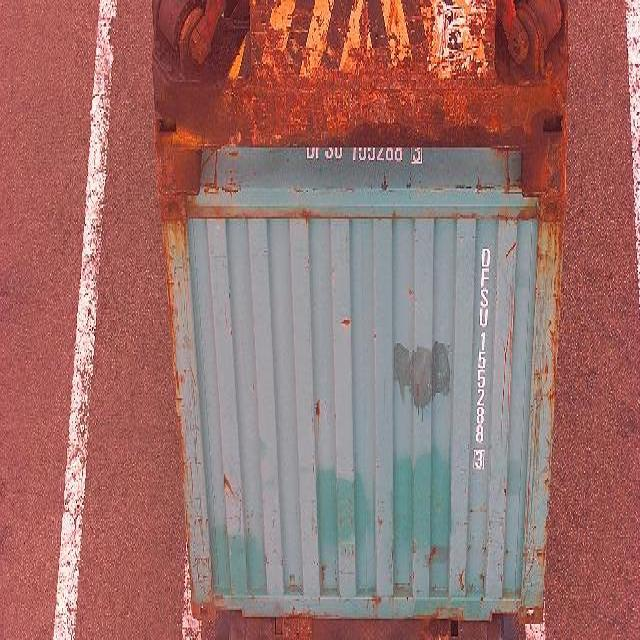container_number: (468, 236, 496, 474)
